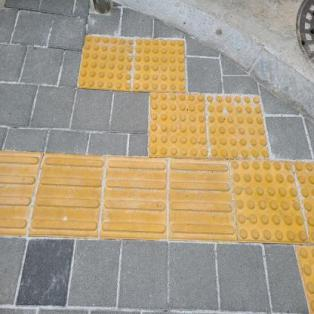Podoctatil: (0, 149, 313, 247), (73, 30, 276, 159)
